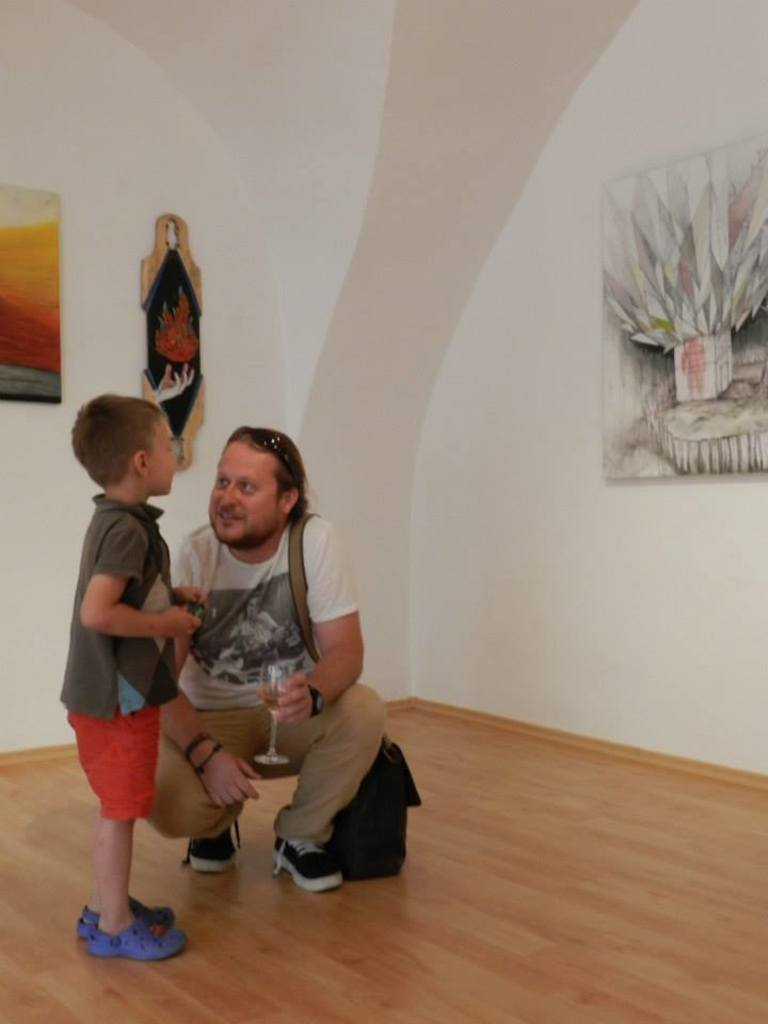Human_hand: (173, 724, 251, 826), (256, 674, 317, 729), (160, 606, 205, 642), (174, 585, 208, 615)
